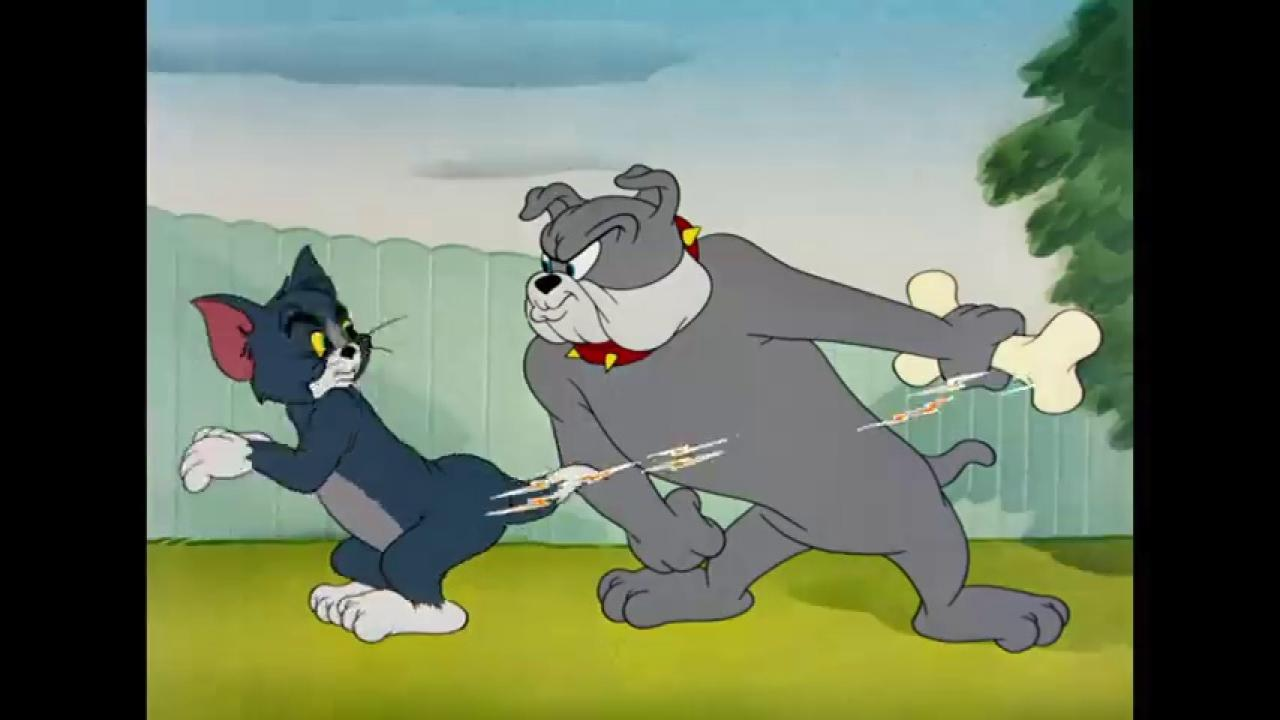Tom: (177, 244, 604, 644)
